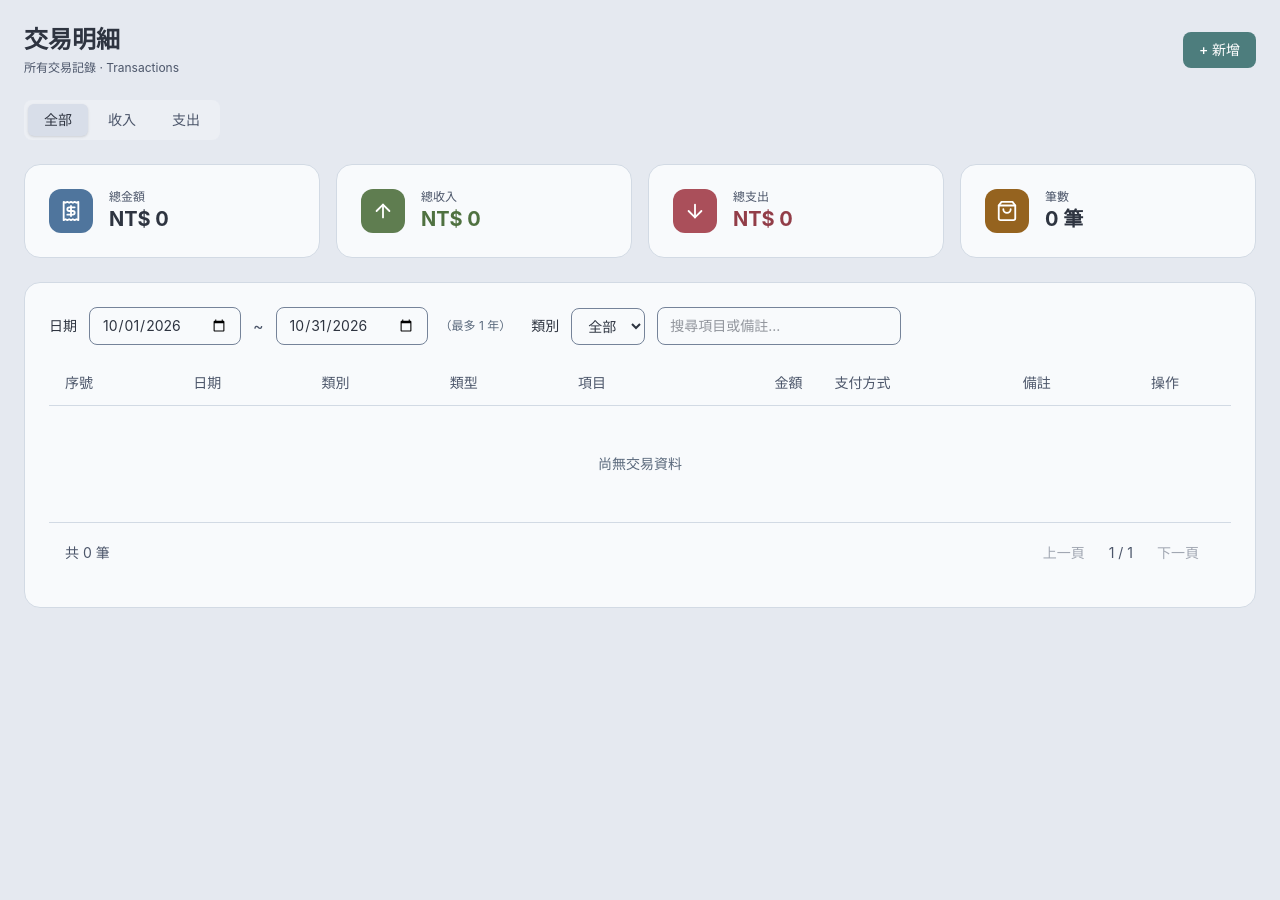
it: transaction form interaction contract › keeps the form open and shows a confirmed API failure
The width and height of the screenshot is (1280, 900).
Click the button "+ 新增" at (1219, 50), box [1183,32,1256,68]
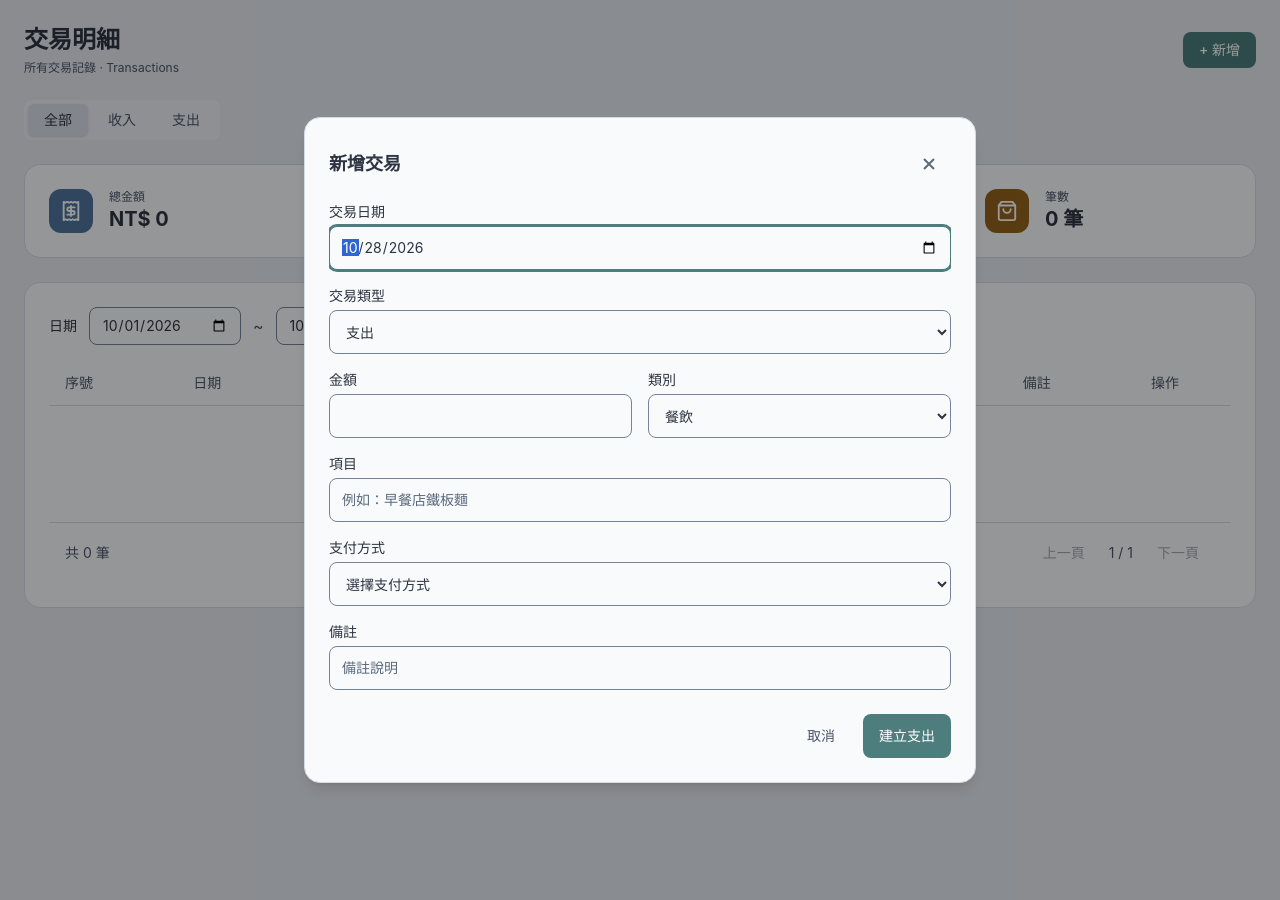
Expected: the dialog is shown, [304,117,976,783]
Type "1280" into the number field with id "transaction-amount" at (480, 416), box [329,394,632,438]
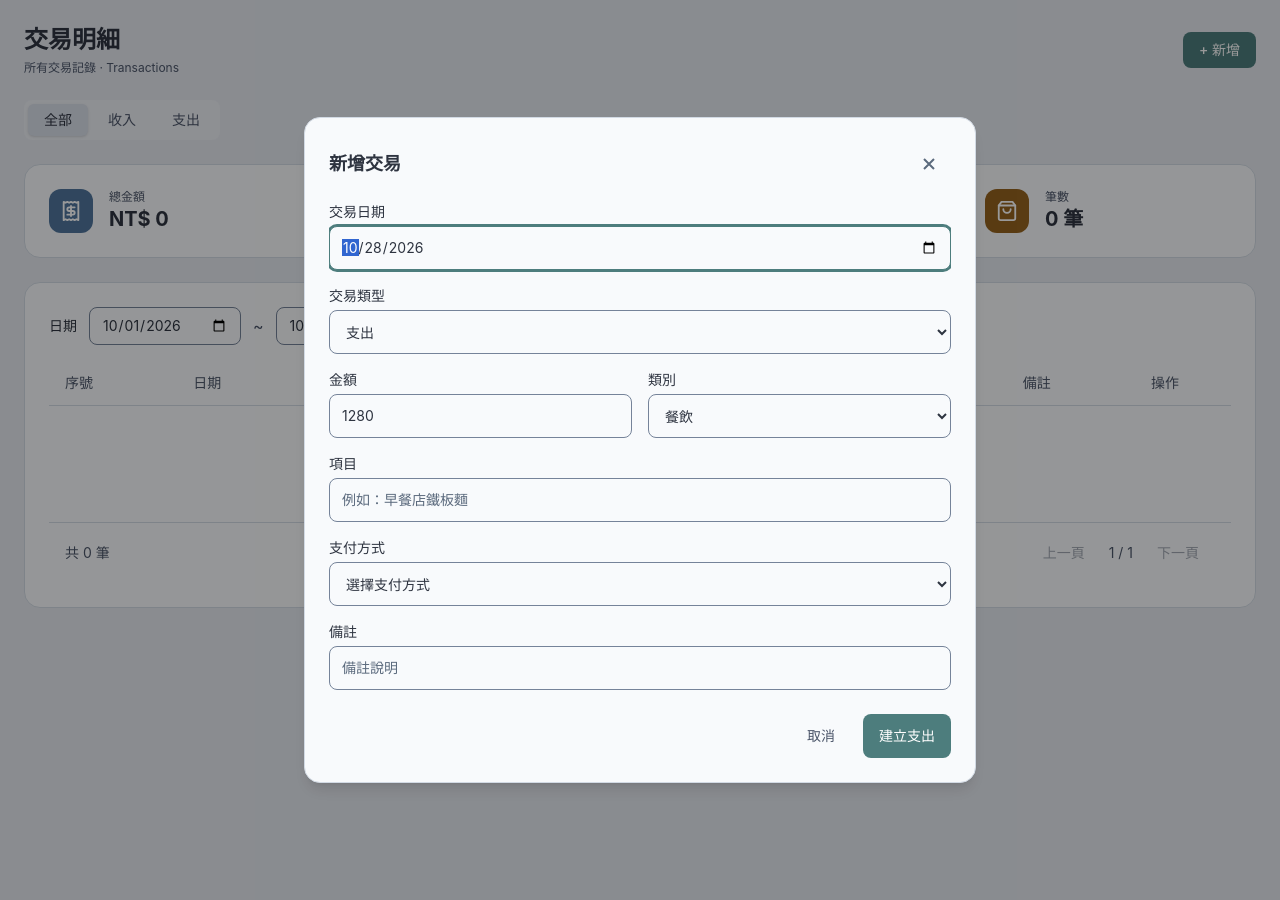
Type "晚餐" into the field with id "transaction-description" at (640, 500), box [329,478,951,522]
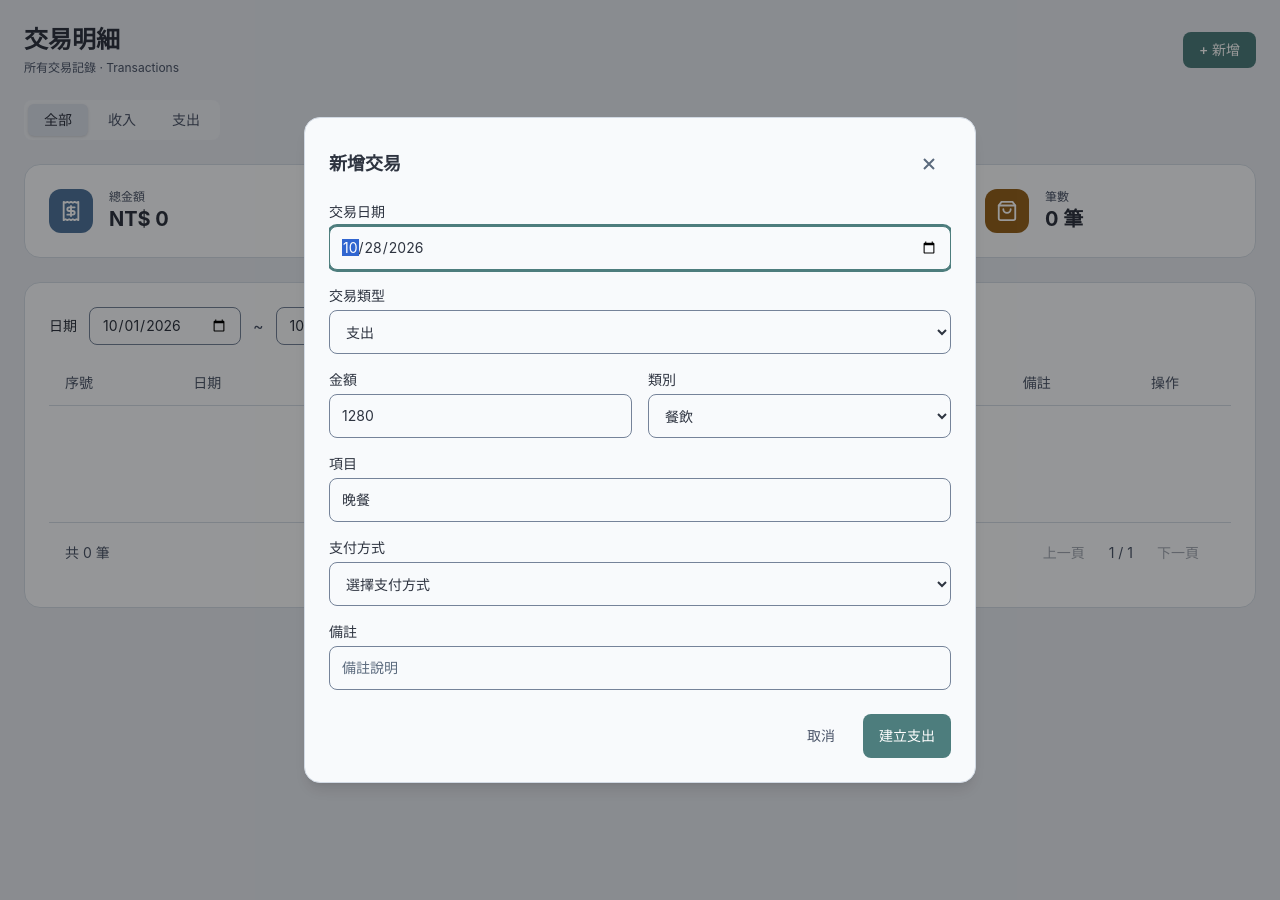
Click the submit button at (907, 736), box [863,714,951,758]
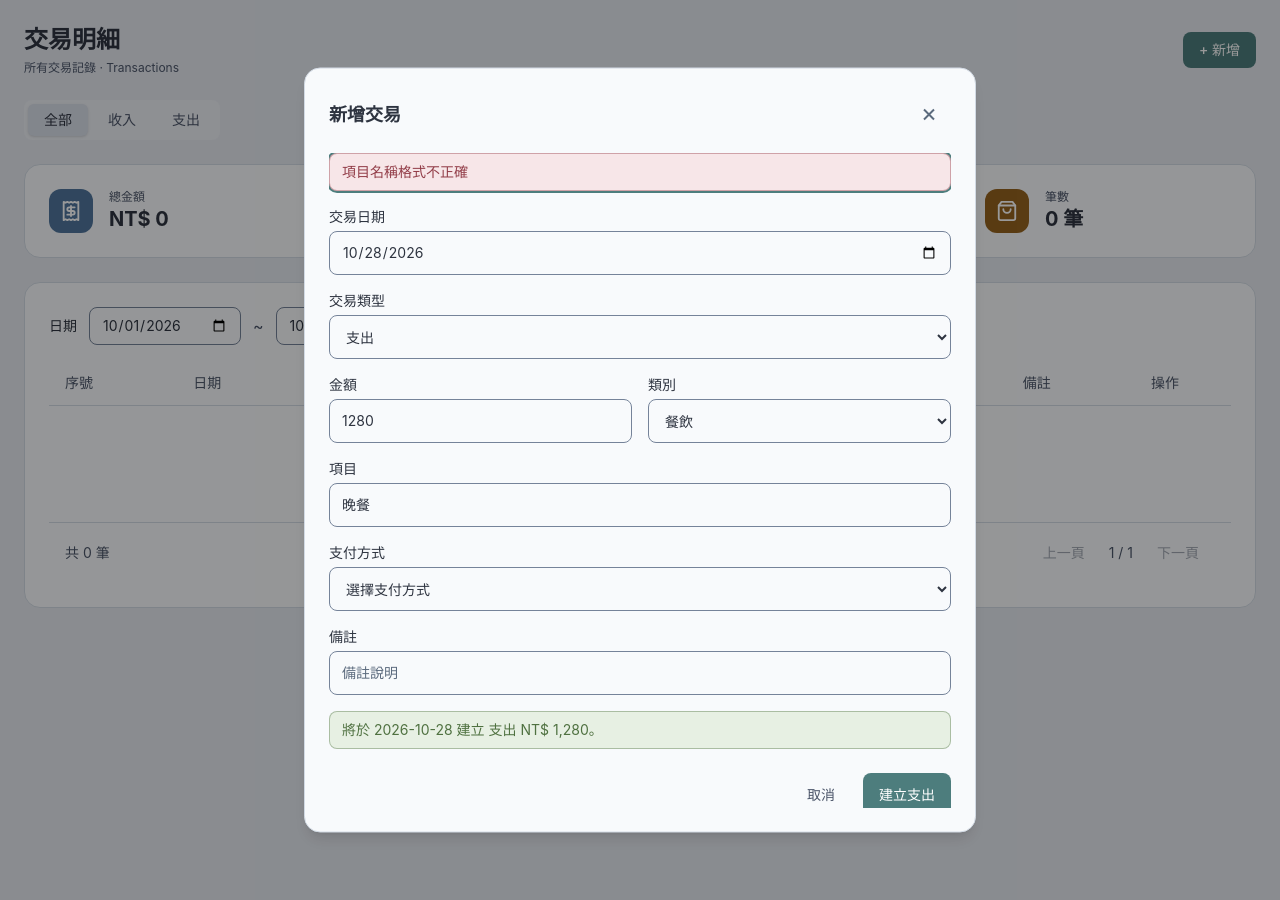
Expected: the dialog is shown, [304,68,976,832]
Expected: the text "項目名稱格式不正確" is shown, [329,152,951,190]
Expected: the message "項目名稱格式不正確" is shown, [329,152,951,190]
